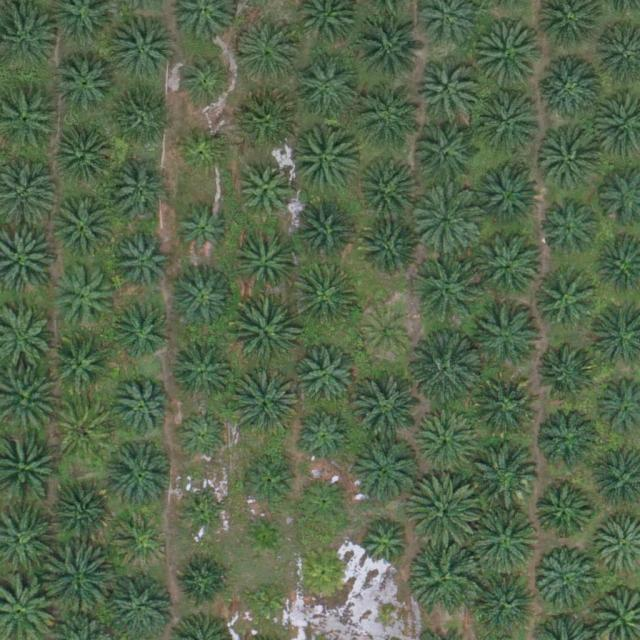Healthy: (412, 542, 483, 613), (410, 335, 481, 406), (410, 257, 481, 328), (286, 123, 357, 193), (41, 545, 111, 616), (471, 503, 541, 574), (409, 473, 479, 544), (291, 262, 361, 333), (229, 369, 300, 439), (109, 15, 179, 85), (236, 15, 306, 85), (354, 15, 424, 85), (411, 185, 481, 255), (474, 87, 544, 157), (473, 22, 543, 92), (469, 440, 539, 510), (230, 299, 300, 369), (105, 440, 175, 510), (352, 377, 422, 447), (349, 435, 419, 505), (109, 92, 172, 155), (112, 160, 175, 223), (289, 199, 352, 262), (540, 134, 603, 197), (535, 549, 598, 612), (477, 572, 540, 635), (294, 345, 357, 408), (234, 232, 297, 295), (170, 269, 233, 332), (110, 377, 173, 440), (54, 196, 117, 258), (57, 125, 119, 188), (57, 52, 119, 115), (244, 89, 306, 152), (295, 56, 357, 119), (354, 156, 416, 219), (360, 94, 422, 157), (417, 58, 479, 121), (412, 125, 475, 187), (478, 161, 540, 224), (541, 56, 603, 119), (50, 484, 113, 546), (531, 481, 593, 544), (534, 267, 596, 330), (478, 235, 540, 298), (473, 379, 535, 442), (416, 411, 478, 474), (354, 217, 417, 279), (172, 340, 234, 403), (52, 263, 114, 326), (50, 332, 112, 395), (539, 405, 601, 467), (537, 340, 599, 402), (478, 309, 540, 371), (54, 400, 116, 462), (174, 204, 229, 259), (178, 122, 233, 177), (178, 51, 233, 106), (237, 164, 292, 219), (542, 202, 597, 257), (297, 474, 352, 529), (114, 514, 169, 569), (175, 411, 230, 466), (114, 306, 169, 361), (114, 238, 169, 293), (298, 409, 352, 465), (176, 554, 230, 609), (357, 517, 411, 572), (241, 456, 295, 511)
Small: (244, 580, 291, 628), (182, 495, 229, 542), (241, 513, 288, 560)
Yellow: (297, 545, 352, 600), (360, 306, 415, 361)
